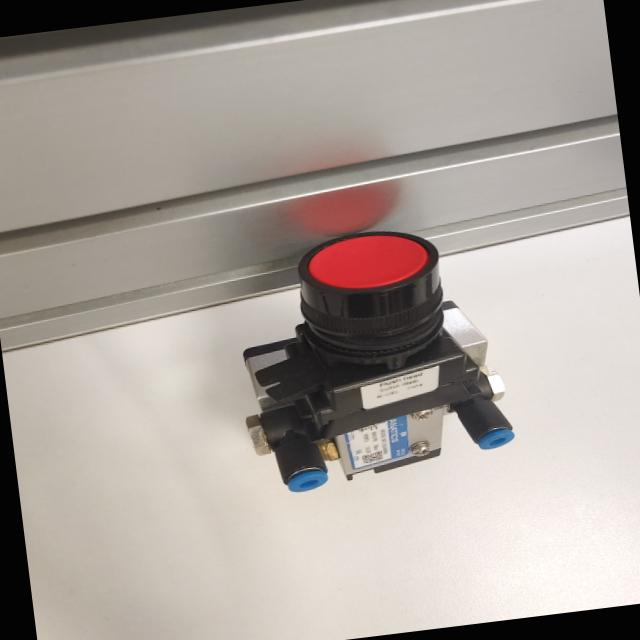push button: (223, 214, 519, 497)
